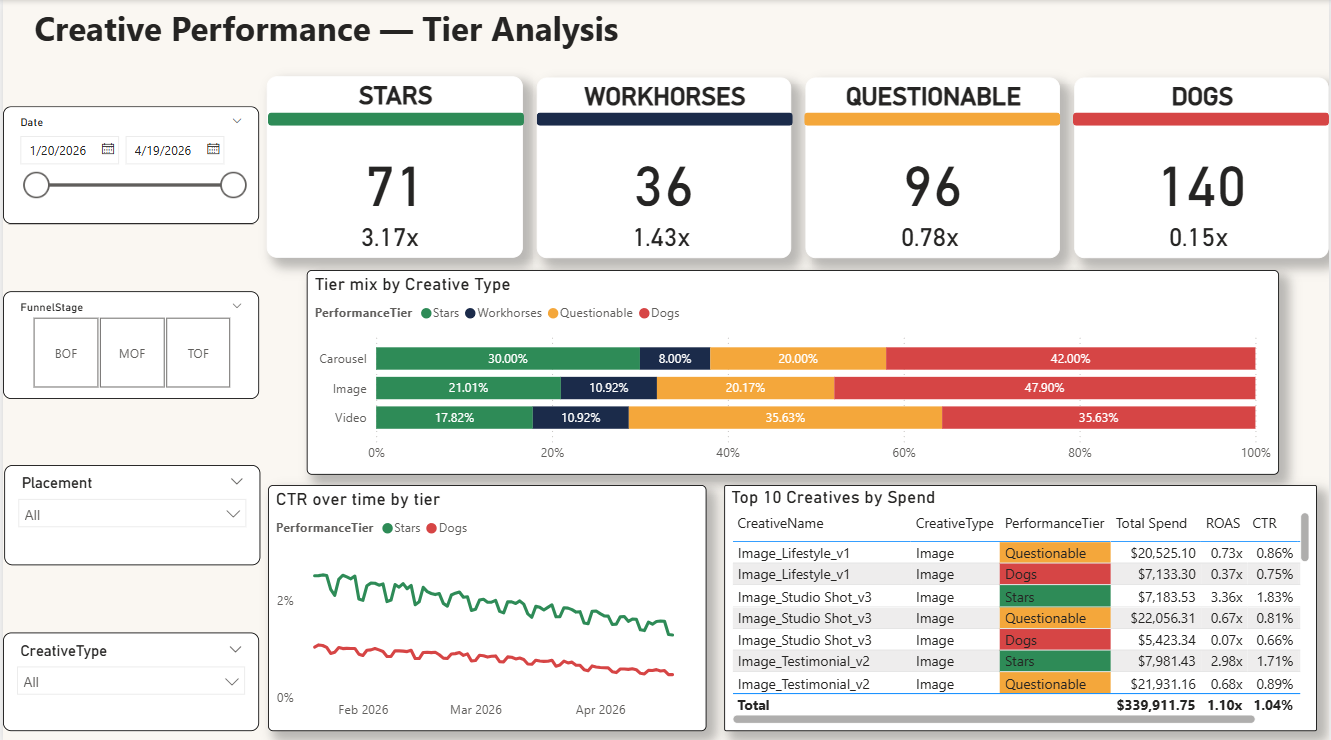

Layout of this report page (visuals, bound fields, positions):
{"tool":"powerbi","page":{"name":"Creative Performance","canvas":[1280,720],"ordinal":2},"visuals":[{"type":"slicer","fields":{"Values":["Dim_Date.Date"]},"box":[0,102.5,247.3,113.4],"z":0},{"type":"slicer","fields":{"Values":["Dim_Campaign.FunnelStage"]},"box":[0,280.7,247.3,103.8],"z":1000},{"type":"slicer","fields":{"Values":["Dim_AdSet.Placement"]},"box":[1.2,449.2,247.3,96.5],"z":2000},{"type":"slicer","fields":{"Values":["Dim_Creative.CreativeType"]},"box":[0,610.5,247.3,95.3],"z":3000},{"type":"card","title":"STARS","fields":{"Values":["Calculations.Active Creatives"]},"box":[254.7,73.2,247,175.4],"z":4000},{"type":"card","title":"STARS","fields":{"Values":["Calculations.ROAS"]},"box":[289.3,207.4,174.1,41],"z":5000},{"type":"shape","box":[256,108.8,247,12.8],"z":6000},{"type":"card","title":"WORKHORSES","fields":{"Values":["Calculations.Active Creatives"]},"box":[515.4,74.5,245.8,174.1],"z":7000},{"type":"card","title":"QUESTIONABLE  ","fields":{"Values":["Calculations.Active Creatives"]},"box":[774.8,74.2,245.8,174.1],"z":8000},{"type":"card","title":"DOGS","fields":{"Values":["Calculations.Active Creatives"]},"box":[1034.2,74.2,245.8,174.1],"z":9000},{"type":"card","title":"STARS","fields":{"Values":["Calculations.ROAS"]},"box":[551.7,207.4,174.1,41],"z":10000},{"type":"card","title":"STARS","fields":{"Values":["Calculations.ROAS"]},"box":[810.2,207.4,174.1,41],"z":11000},{"type":"card","title":"STARS","fields":{"Values":["Calculations.ROAS"]},"box":[1070.1,207.4,174.1,41],"z":12000},{"type":"shape","box":[514.6,108.8,247,12.8],"z":13000},{"type":"shape","box":[773.1,108.8,247,12.8],"z":14000},{"type":"shape","box":[1033,108.8,247,12.8],"z":15000},{"type":"hundredPercentStackedBarChart","title":"Tier mix by Creative Type ","fields":{"Category":["Dim_Creative.CreativeType"],"Y":["Calculations.Active Creatives"],"Series":["Dim_Creative.PerformanceTier"]},"box":[293.2,260.6,938.6,197.9],"z":16000},{"type":"textbox","box":[25.6,0,654.1,90.9],"z":17000},{"type":"lineChart","title":"CTR over time by tier","fields":{"Category":["Dim_Date.Date"],"Y":["Calculations.CTR"],"Series":["Dim_Creative.PerformanceTier"]},"box":[255.8,468.1,423.5,237.7],"z":18000},{"type":"tableEx","title":"Top 10 Creatives by Spend","fields":{"Values":["Dim_Creative.CreativeName","Dim_Creative.CreativeType","Dim_Creative.PerformanceTier","Calculations.Total Spend","Calculations.ROAS","Calculations.CTR","Calculations.CVR"]},"box":[696.1,468.1,571.9,237.7],"z":19000}]}

Visuals, with their boxes in screenshot pixels (x1, y1, x2, y2), scaled from the page's 1280x720 canvas onto the 1331x740 screenshot:
slicer - Dim_Date.Date: region(0, 105, 257, 222)
slicer - Dim_Campaign.FunnelStage: region(0, 288, 257, 395)
slicer - Dim_AdSet.Placement: region(1, 462, 258, 561)
slicer - Dim_Creative.CreativeType: region(0, 627, 257, 725)
"STARS" card: region(265, 75, 522, 256)
"STARS" card: region(301, 213, 482, 255)
shape: region(266, 112, 523, 125)
"WORKHORSES" card: region(536, 77, 792, 256)
"QUESTIONABLE  " card: region(806, 76, 1061, 255)
"DOGS" card: region(1075, 76, 1330, 255)
"STARS" card: region(574, 213, 755, 255)
"STARS" card: region(842, 213, 1024, 255)
"STARS" card: region(1113, 213, 1294, 255)
shape: region(535, 112, 792, 125)
shape: region(804, 112, 1061, 125)
shape: region(1074, 112, 1330, 125)
"Tier mix by Creative Type " hundredPercentStackedBarChart: region(305, 268, 1281, 471)
textbox: region(27, 0, 707, 93)
"CTR over time by tier" lineChart: region(266, 481, 706, 725)
"Top 10 Creatives by Spend" tableEx: region(724, 481, 1319, 725)
